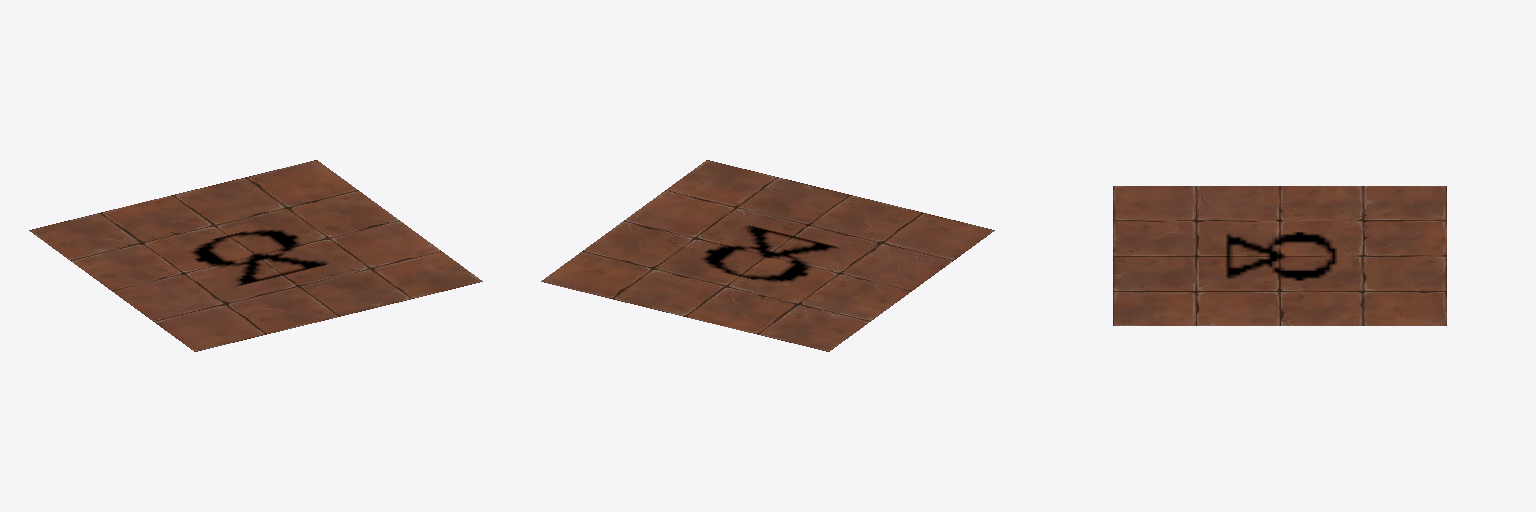
The picture shows the model from 3 angles: view 1: azimuth 30°, elevation 25°; view 2: azimuth 150°, elevation 25°; view 3: azimuth 270°, elevation 25°; orthographic projection.
Visible parts, largest first — view 1: pPlane1; view 2: pPlane1; view 3: pPlane1.
Boxes of the visible parts, x1,y1,x2,y2 form: pPlane1: [29, 160, 482, 351]; pPlane1: [541, 160, 994, 351]; pPlane1: [1113, 186, 1446, 325].
Size of the model in its own units: 8 by 0 by 8.
Materials: 1 (1 with a texture image).